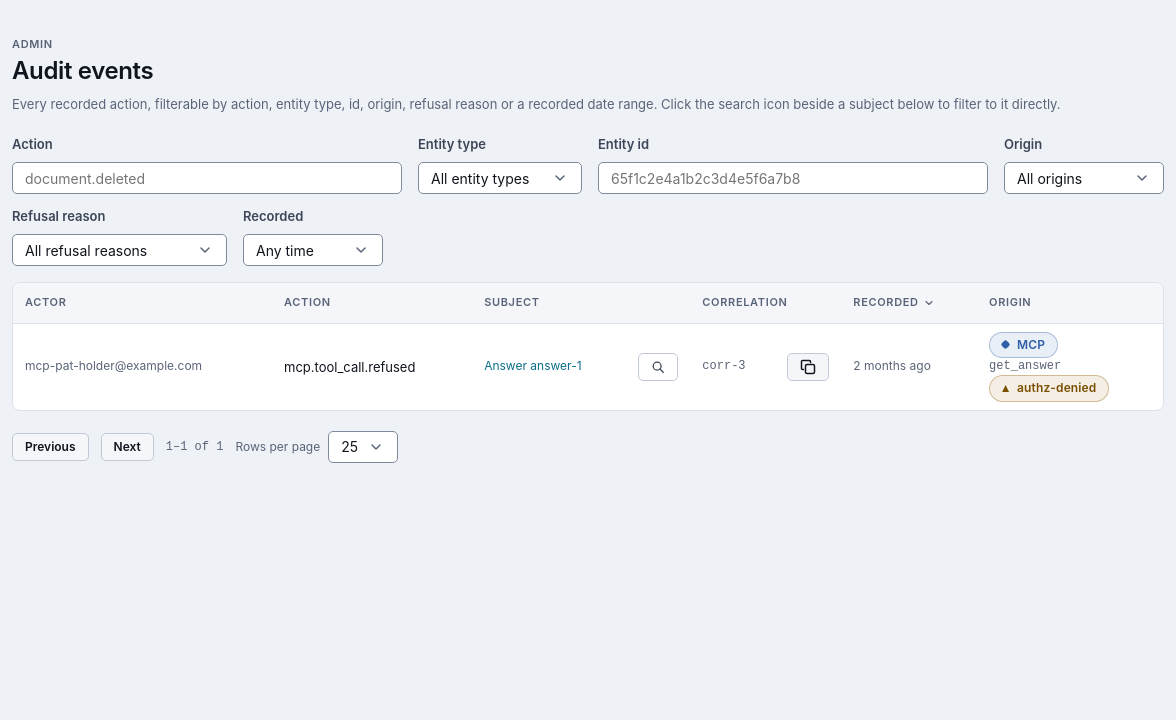
AuditEventsPage › applies the origin and refusal reason filters as query parameters on change, echoed as chips
Expected: the text "mcp.tool_call.refused" is shown, x1=272 y1=324 x2=472 y2=410
Select "MCP" in the dropdown labelled "Origin": (1084, 178) x1=1004 y1=162 x2=1164 y2=194
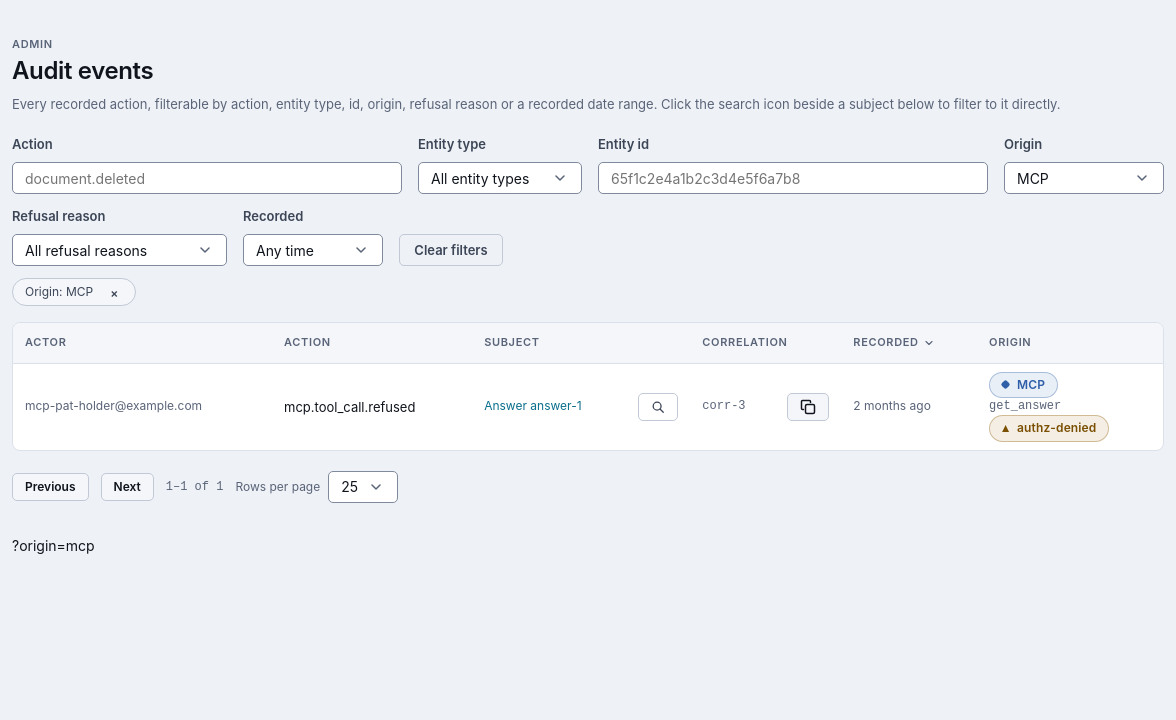
Select "authz-denied" in the dropdown labelled "Refusal reason": (120, 250) x1=12 y1=234 x2=227 y2=266
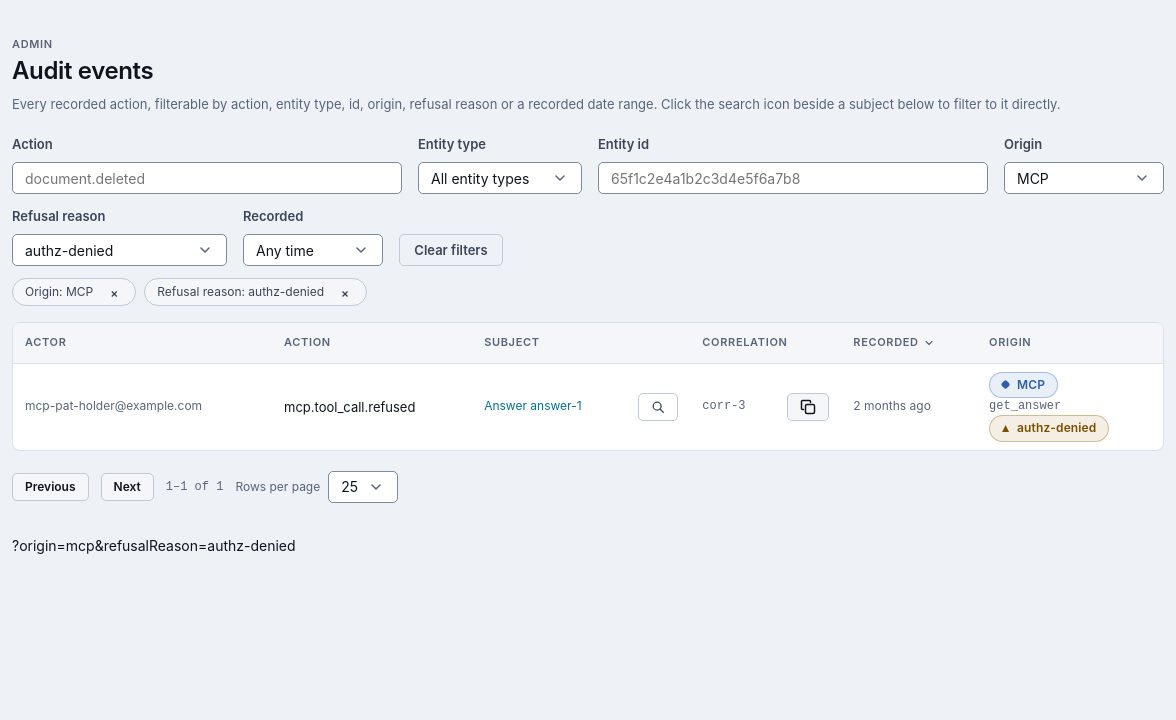
Expected: the text "Origin: MCP" is shown, x1=25 y1=283 x2=93 y2=302
Expected: the text "Refusal reason: authz-denied" is shown, x1=157 y1=283 x2=324 y2=302
